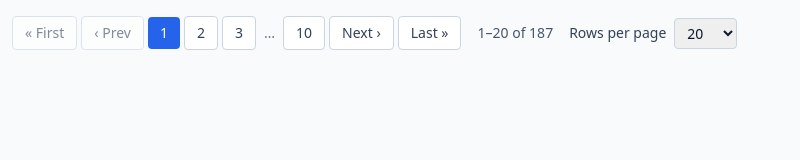
Pagination following controlled state › moves with the page and the size it is given across renders
Expected: the text "1–20 of 187" is shown, [478, 23, 553, 43]
Click the button with aria-label "Next page" at x=361, y=33, box [329, 16, 394, 50]
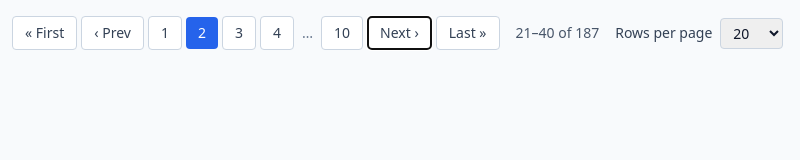
Expected: the text "21–40 of 187" is shown, [516, 23, 599, 43]
Select "50" in the dropdown labelled "Rows per page" at x=752, y=33, box [720, 18, 783, 48]
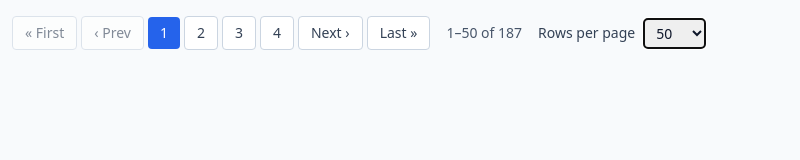
Expected: the text "1–50 of 187" is shown, [446, 23, 522, 43]
